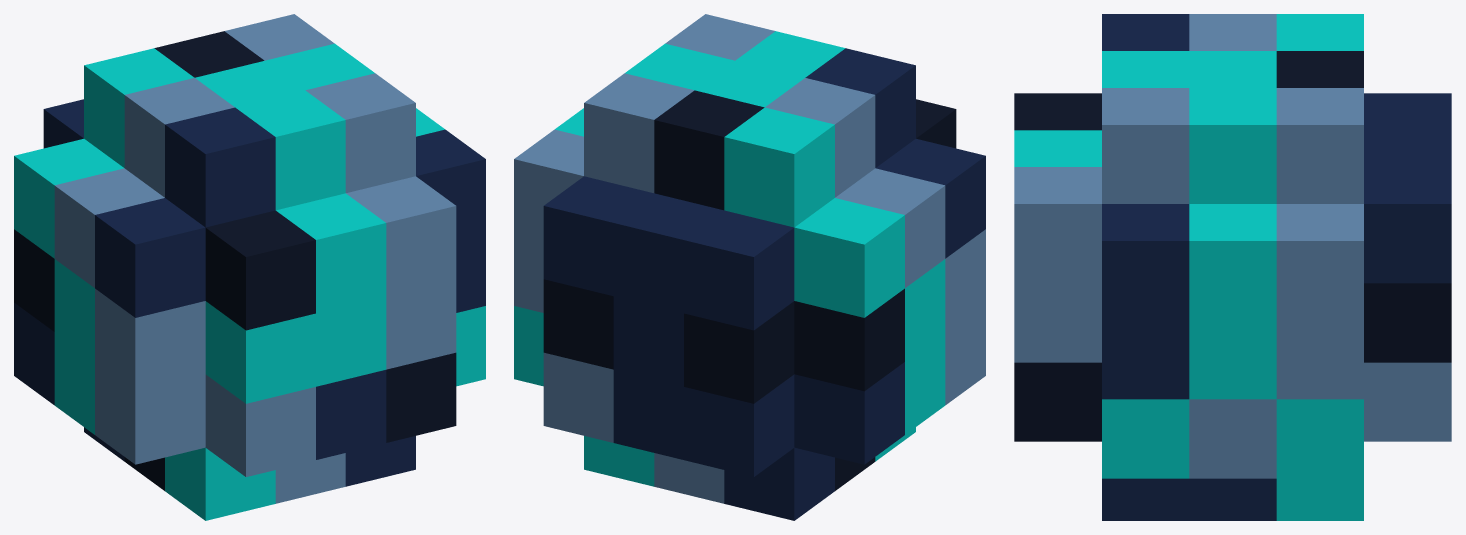
Rendered from ElectricBall.glb.
The picture shows the model from 3 angles, left to right: view 1: azimuth 30°, elevation 25°; view 2: azimuth 150°, elevation 25°; view 3: azimuth 270°, elevation 25°; orthographic projection. The views are drawn at different scales.
Parts seen in each view (by area): view 1: ElectricBall.002; view 2: ElectricBall.002; view 3: ElectricBall.002.
Boxes of the visible parts, left/top/right/bottom form: ElectricBall.002: left=14, top=14, right=485, bottom=520; ElectricBall.002: left=514, top=14, right=985, bottom=520; ElectricBall.002: left=1014, top=14, right=1451, bottom=520.
Size of the model in its own units: 0.5 by 0.5 by 0.5.
Materials: 1 (1 with a texture image).
